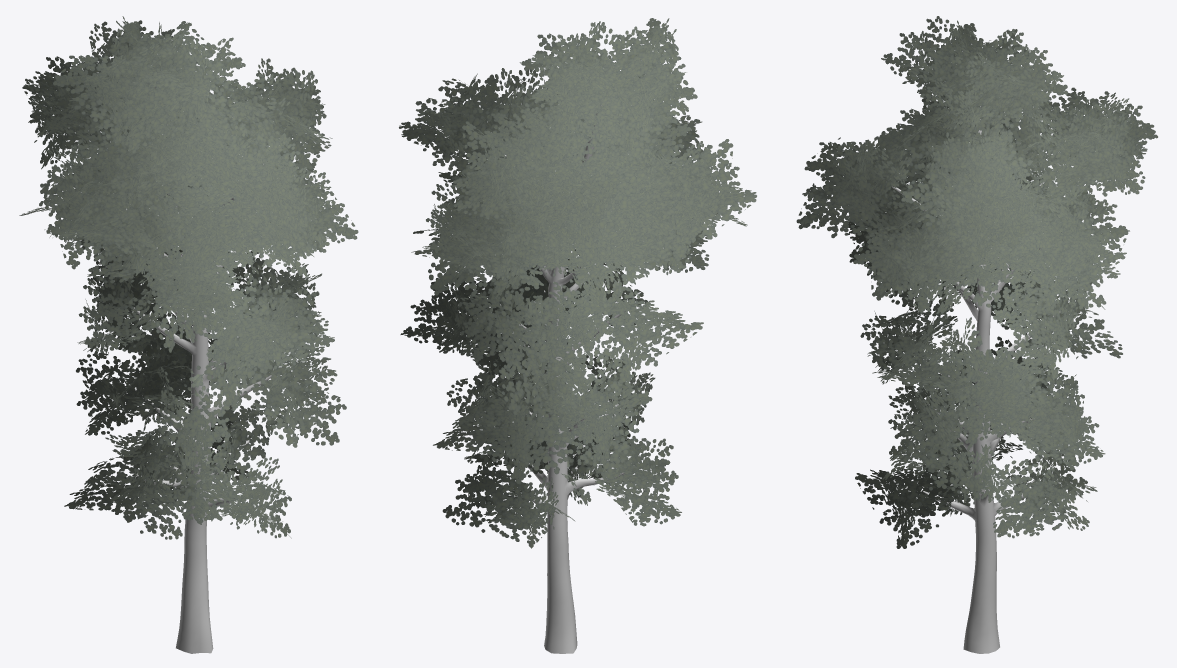
File: SM_Tree_A_03.fbx
The picture shows the model from 3 angles, left to right: view 1: azimuth 30°, elevation 25°; view 2: azimuth 150°, elevation 25°; view 3: azimuth 270°, elevation 25°; orthographic projection. The views are drawn at different scales.
Visible parts, largest first — view 1: SM_TreeA_03_LOD0; view 2: SM_TreeA_03_LOD0; view 3: SM_TreeA_03_LOD0.
Boxes of the visible parts, box(x1,y1,x2,y2) form: SM_TreeA_03_LOD0: box(19, 16, 358, 653); SM_TreeA_03_LOD0: box(399, 18, 756, 653); SM_TreeA_03_LOD0: box(796, 16, 1157, 653).
Size of what is drawn, in the model's own units: 8.12 by 15.12 by 8.52.
